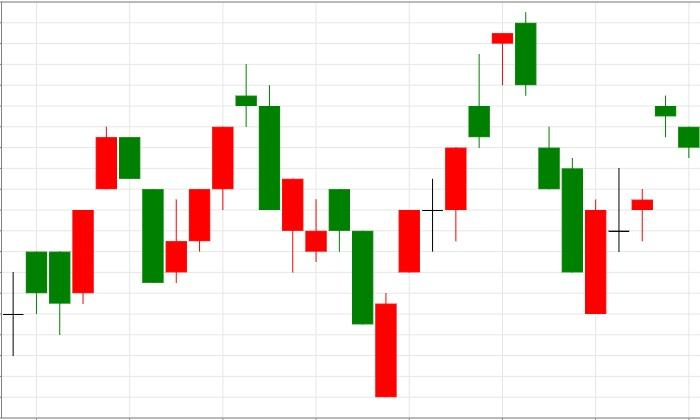bearish_engulfing_fall: (374, 11, 537, 397)
three_white_soldiers_rise: (95, 126, 234, 284)
